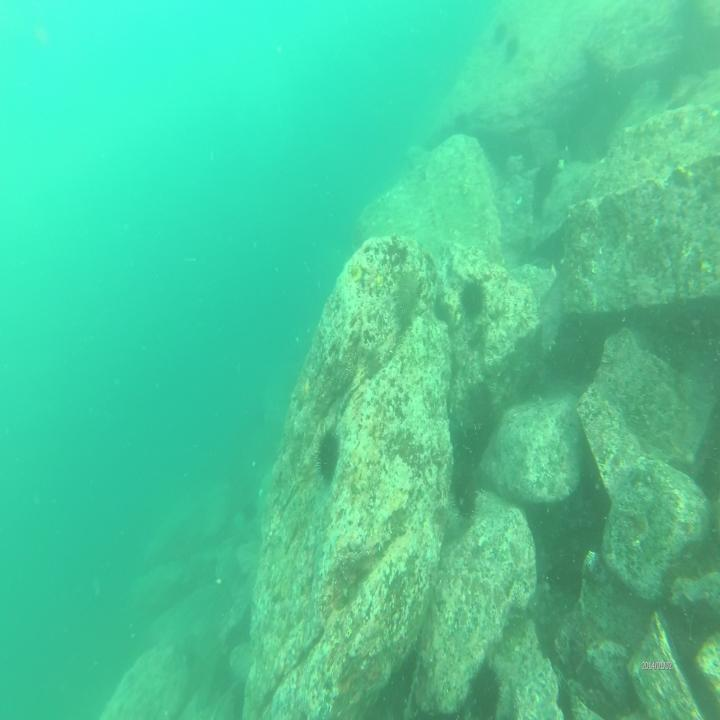echinus: (390, 265, 422, 335), (458, 270, 492, 330), (469, 659, 498, 720), (451, 471, 480, 528), (318, 424, 340, 486), (488, 16, 510, 49), (503, 31, 521, 68)
scallop: (344, 258, 365, 289), (365, 264, 382, 298)
